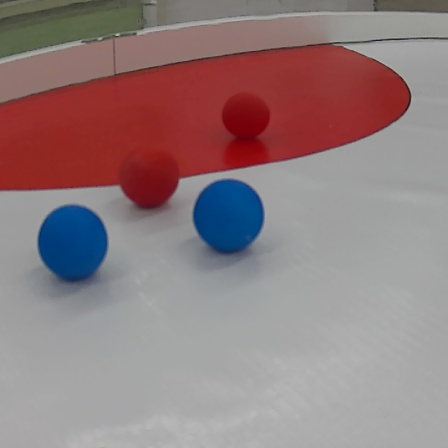blue: (35, 201, 107, 283), (191, 177, 265, 251)
red: (119, 145, 182, 210), (222, 87, 273, 139)
red_base: (0, 40, 410, 191)
